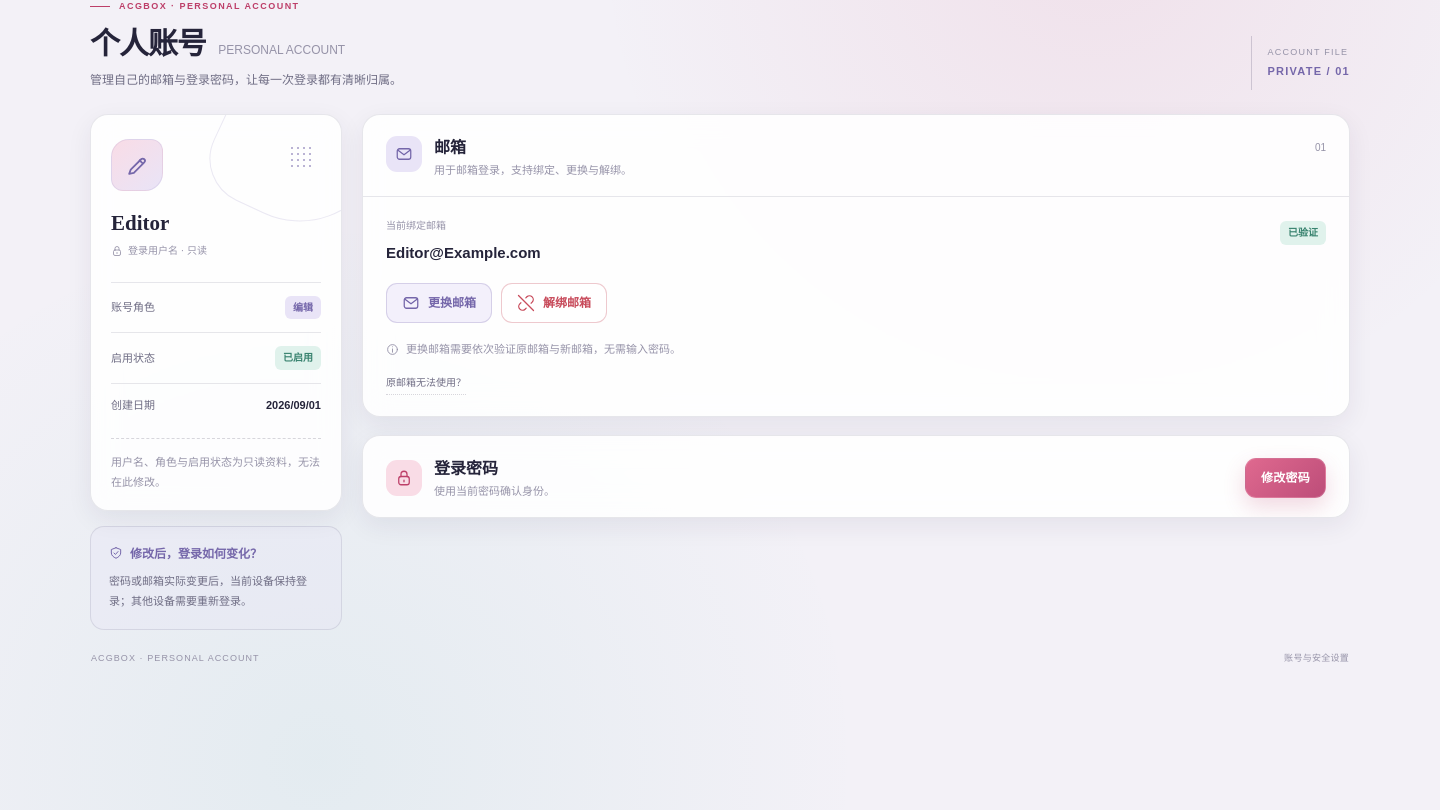
Test: 个人账号 › 换绑先验证原邮箱，凭证仅用于新邮箱发信和保存；保存前保留原邮箱
Click the button "更换邮箱" at (439, 303), box [386, 283, 492, 323]
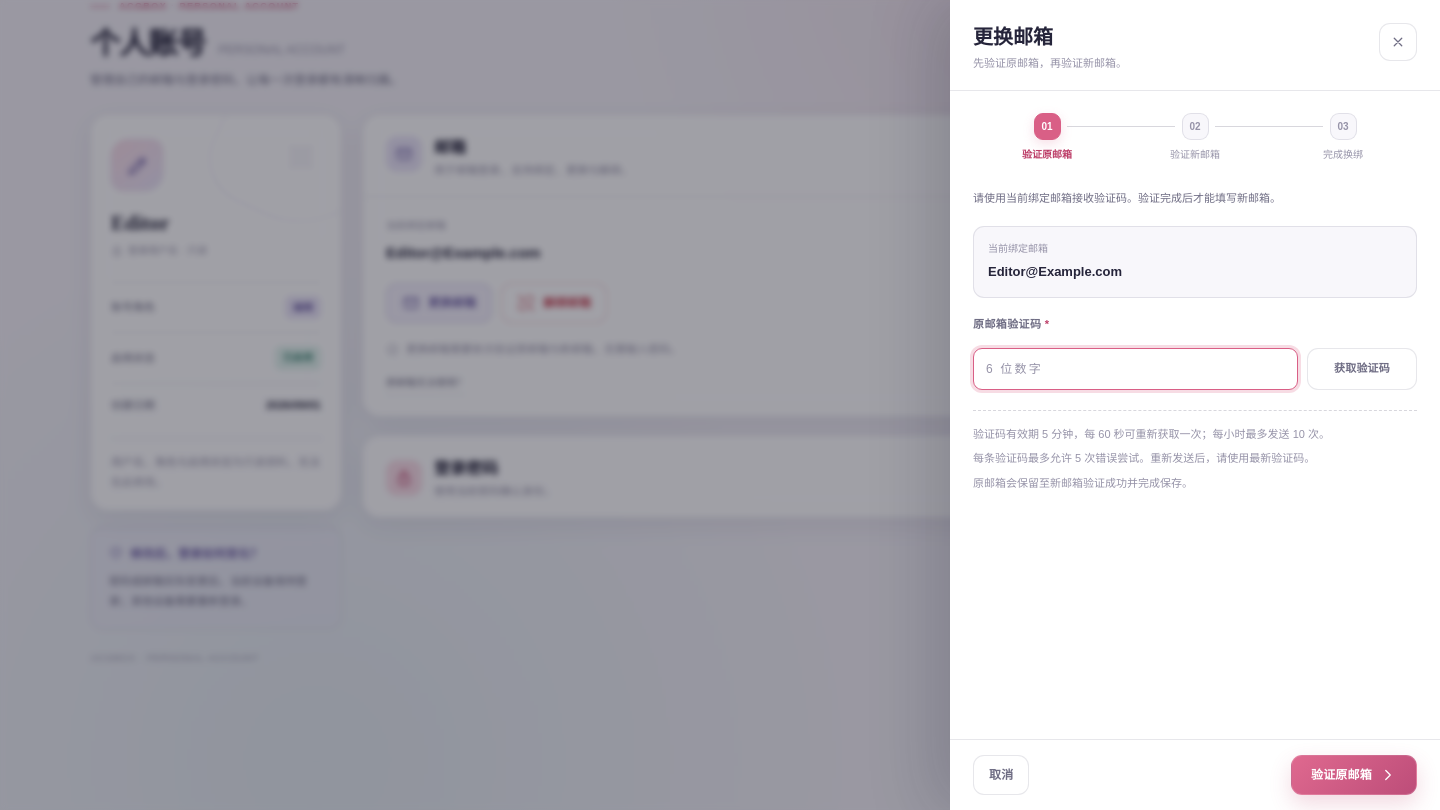
Click the button with id "sendOldCode" at (1362, 368), box [1307, 348, 1417, 390]
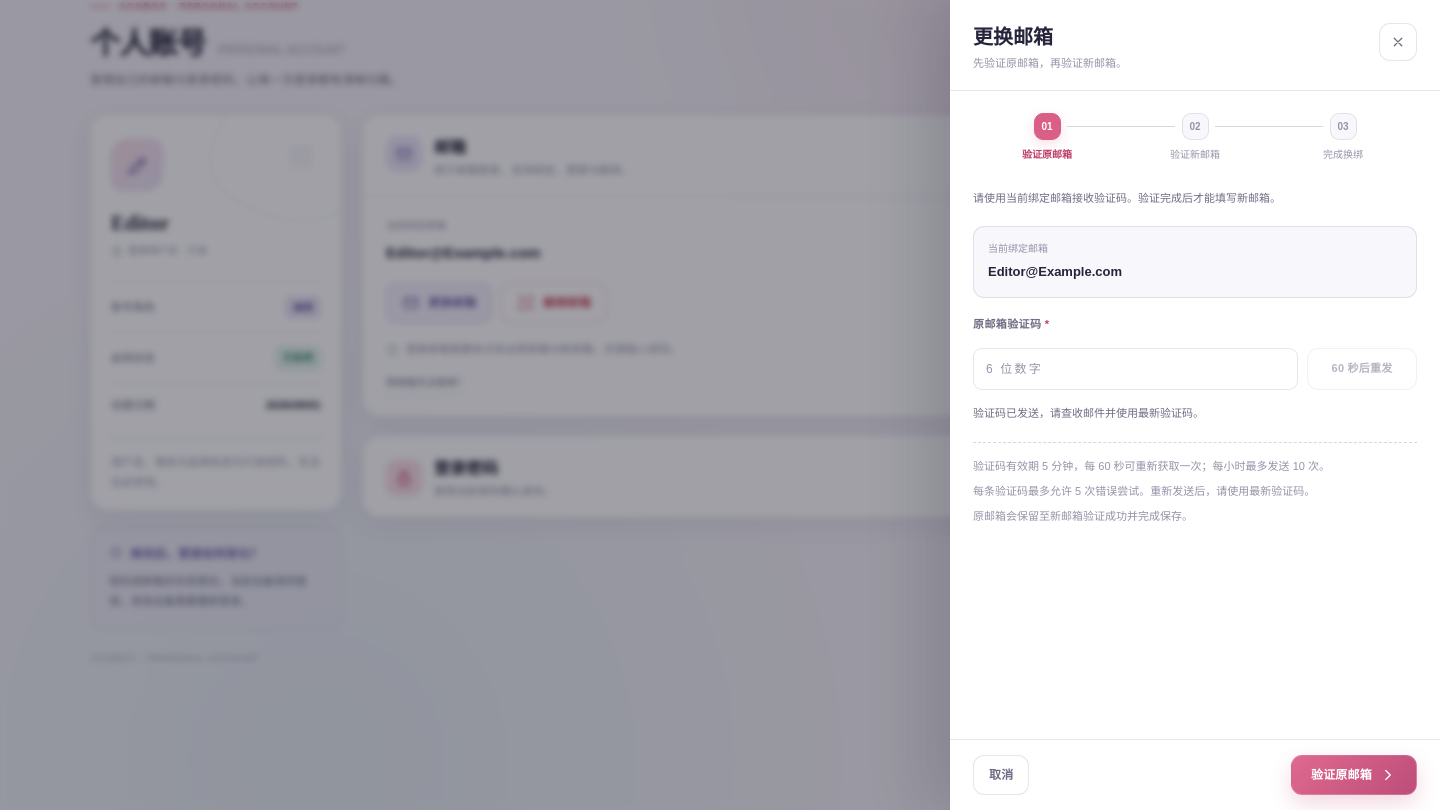
Type "012345" into the field with id "oldCode" at (1136, 368), box [973, 348, 1298, 390]
Click the button with id "flowSubmit" at (1354, 775), box [1291, 755, 1417, 795]
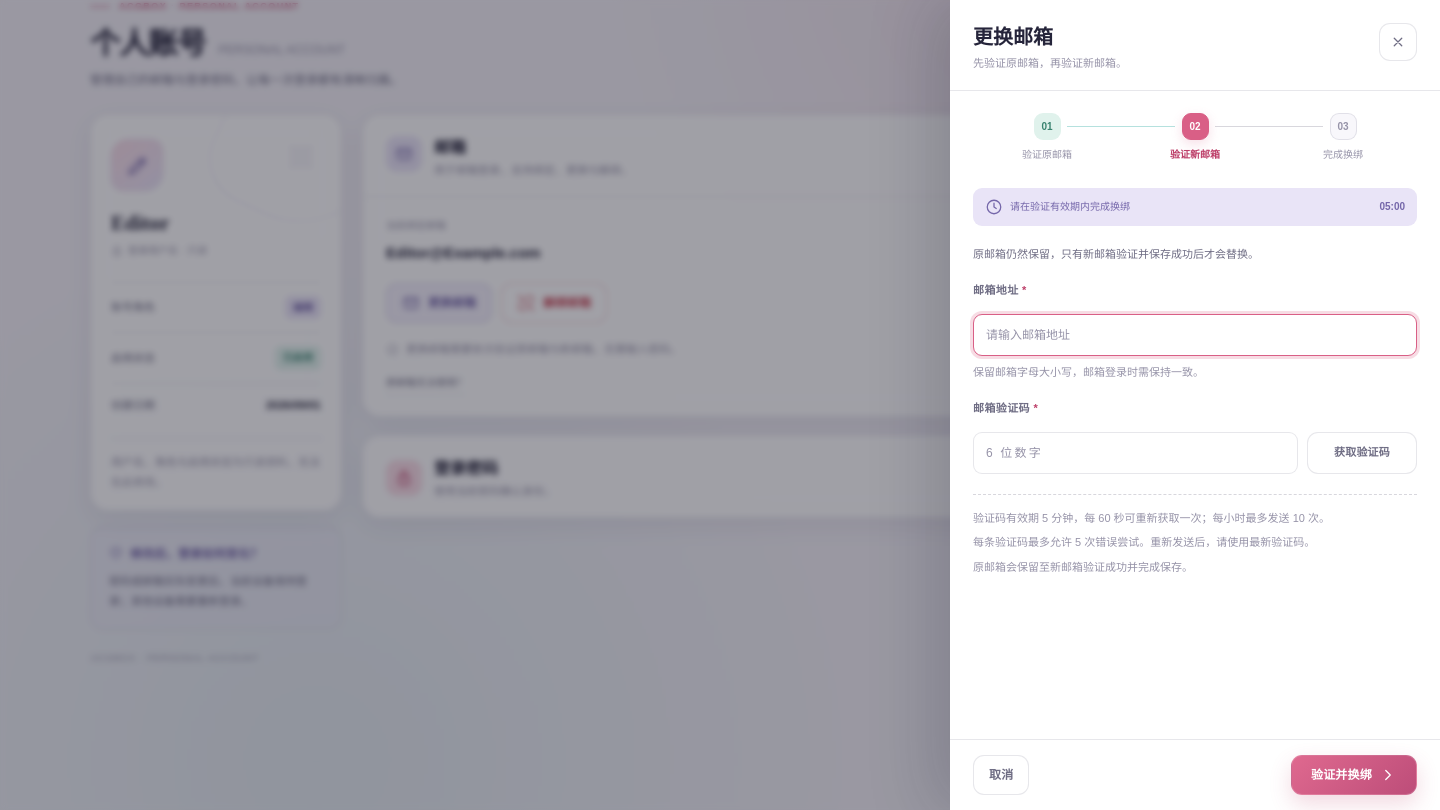
Check: the element showing "请在验证有效期内完成换绑 05:00" is shown, box [973, 188, 1417, 226]
Type "Changed@Example.com" into the field with id "newEmail" at (1195, 335), box [973, 314, 1417, 356]
Click the button with id "sendNewCode" at (1362, 453), box [1307, 432, 1417, 474]
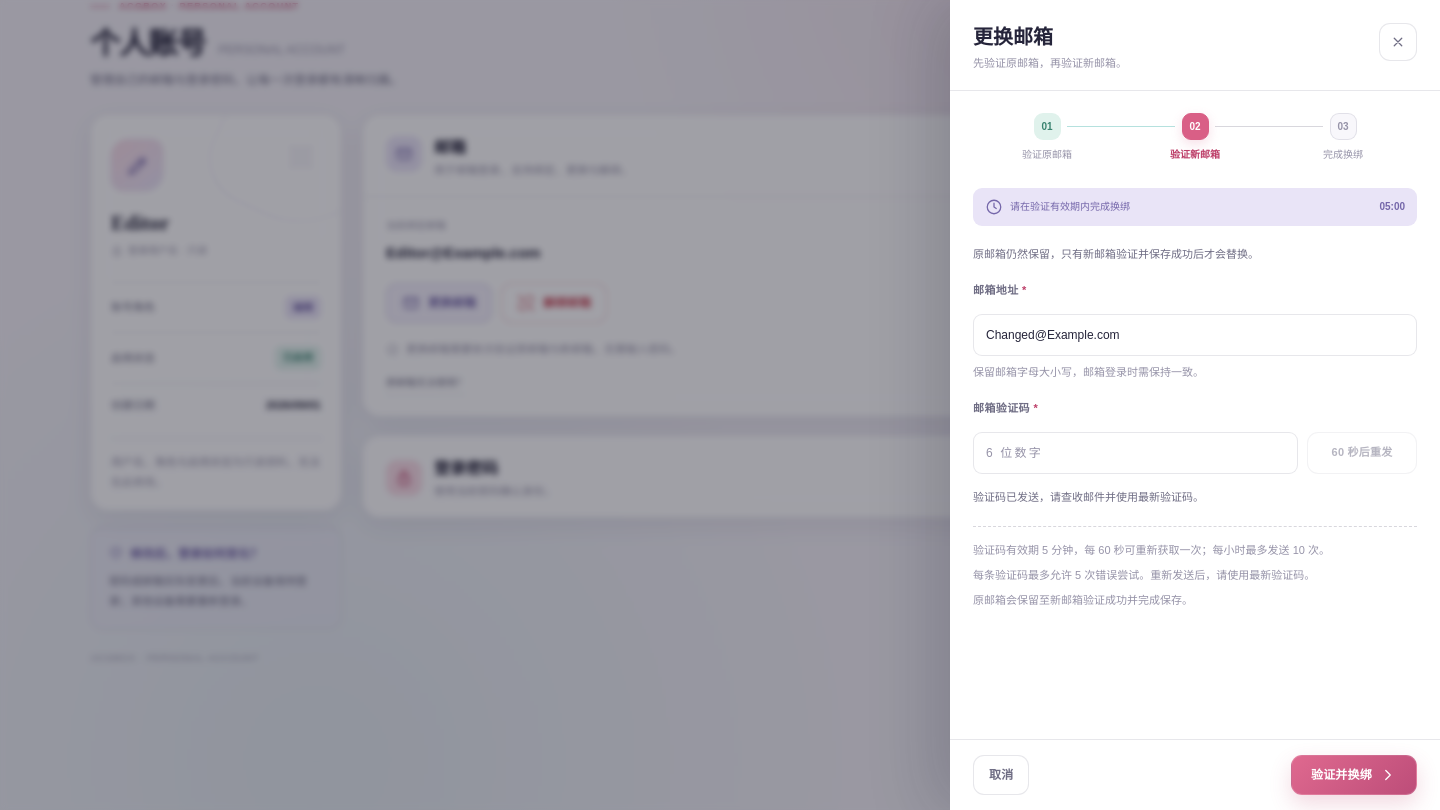
Check: the text with class "email-address" reads "Editor@Example.com", box [386, 244, 541, 261]
Type "001234" into the field with id "newCode" at (1136, 453), box [973, 432, 1298, 474]
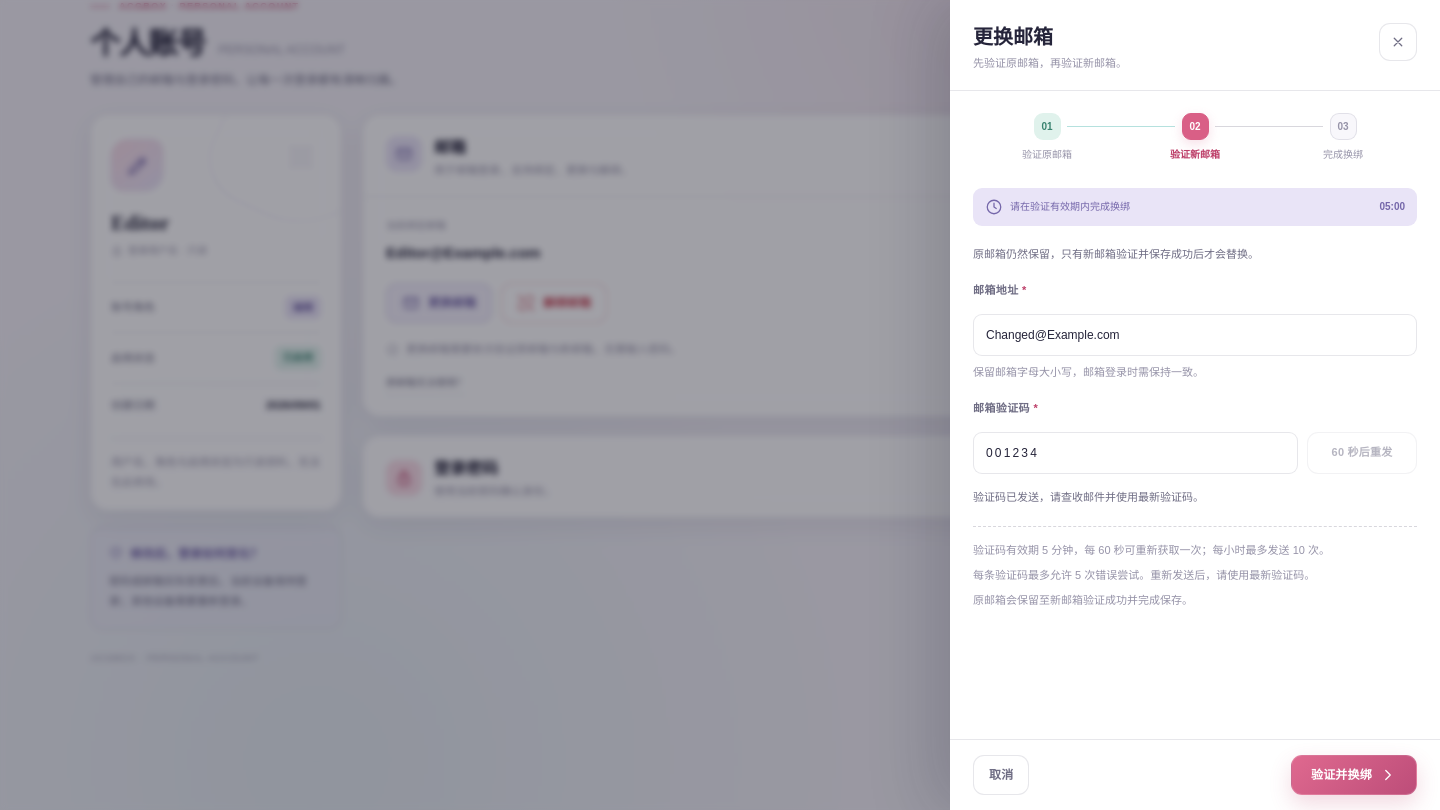
Click the button with id "flowSubmit" at (1354, 775), box [1291, 755, 1417, 795]
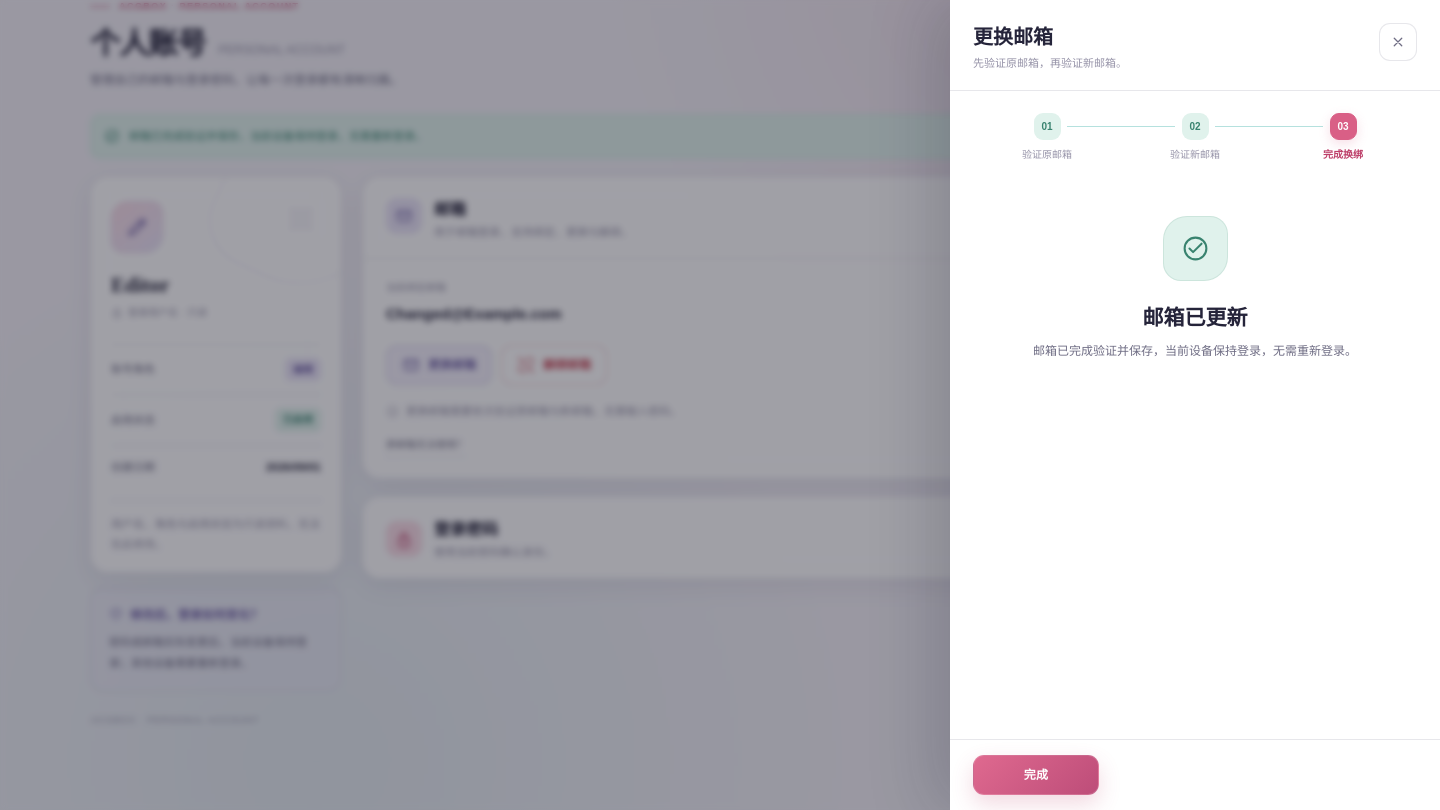
Check: the text with class "email-address" reads "Changed@Example.com", box [386, 306, 562, 322]
